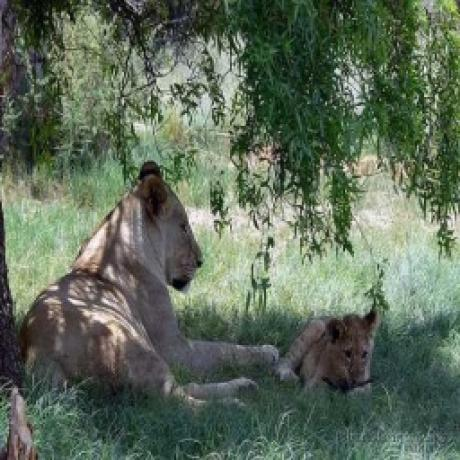Lion: (17, 157, 278, 407), (276, 306, 380, 390)
